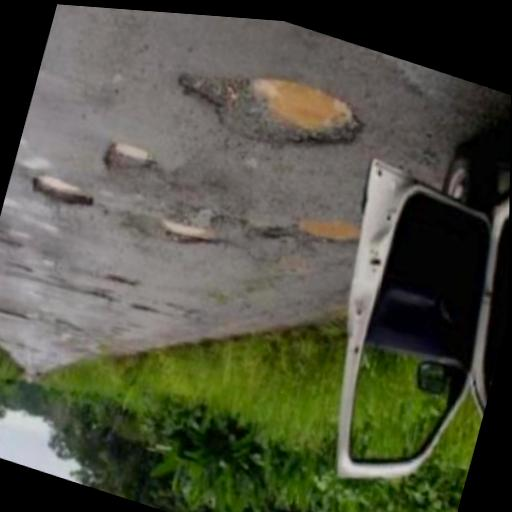pothole: (162, 105, 458, 324), (114, 123, 328, 351), (177, 76, 512, 198), (17, 101, 108, 307), (92, 78, 202, 217)
